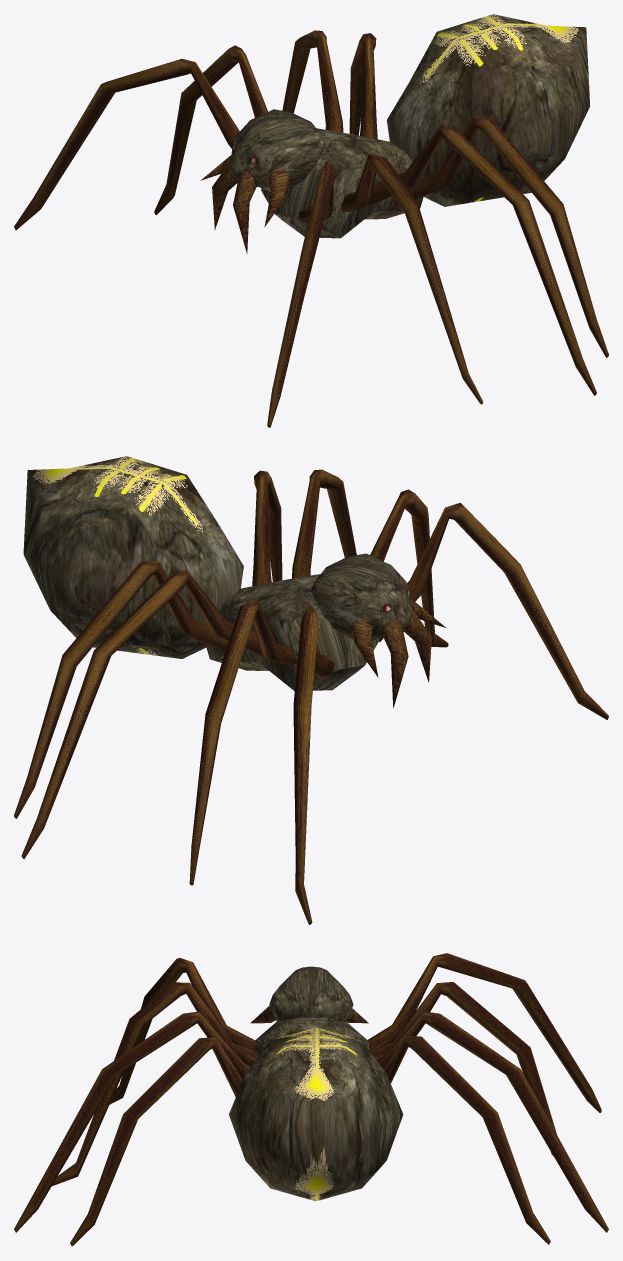
The model's file is spider.glb.
The picture shows the model from 3 angles, top to bottom: view 1: azimuth 30°, elevation 25°; view 2: azimuth 150°, elevation 25°; view 3: azimuth 270°, elevation 25°; orthographic projection. The views are drawn at different scales.
Parts seen in each view (by area): view 1: spider; view 2: spider; view 3: spider.
Part boxes in pixels (x1=…): spider: x1=14, y1=14, x2=608, y2=427; spider: x1=14, y1=456, x2=608, y2=924; spider: x1=14, y1=953, x2=608, y2=1246.
Bounding box in the file's own units: 151 × 79.74 × 193.
4 materials, 4 textured.
